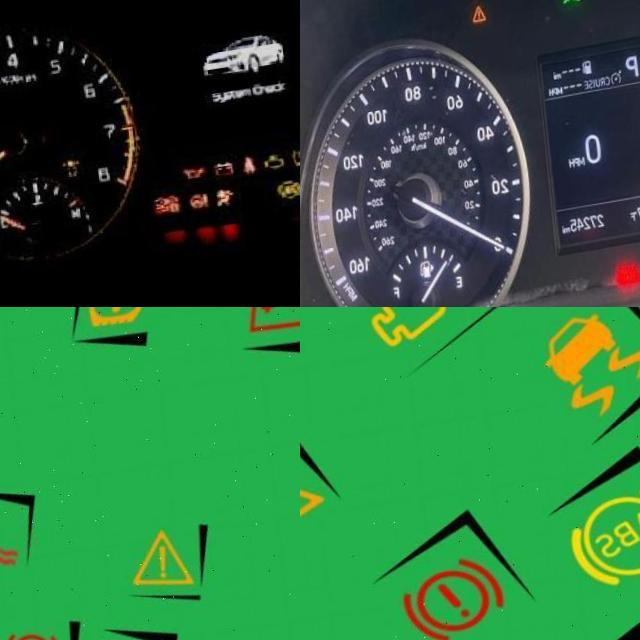High Engine Coolant Temperature: (15, 196, 27, 208)
Seat Belt: (224, 164, 241, 183)
